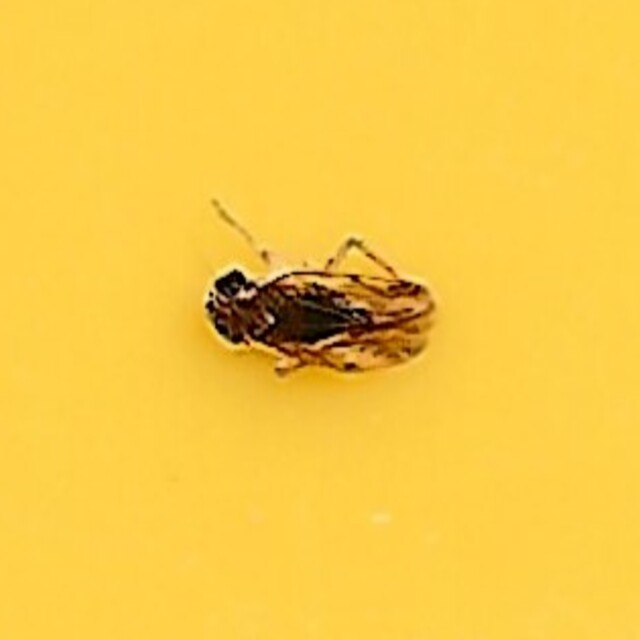Hemiptera: (203, 259, 437, 381)
